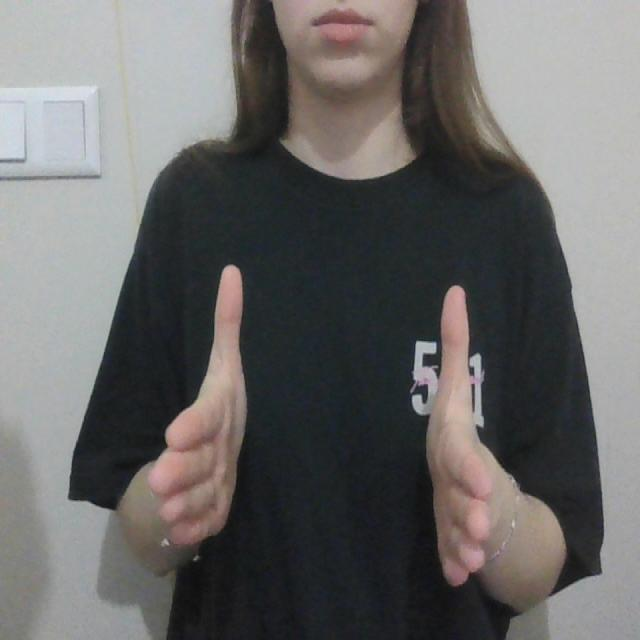Nasil: (141, 248, 512, 605)
